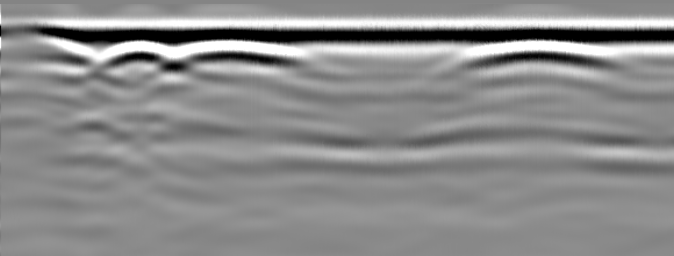pipe: (3, 21, 58, 49)
steel: (106, 42, 287, 68), (474, 42, 614, 68)
